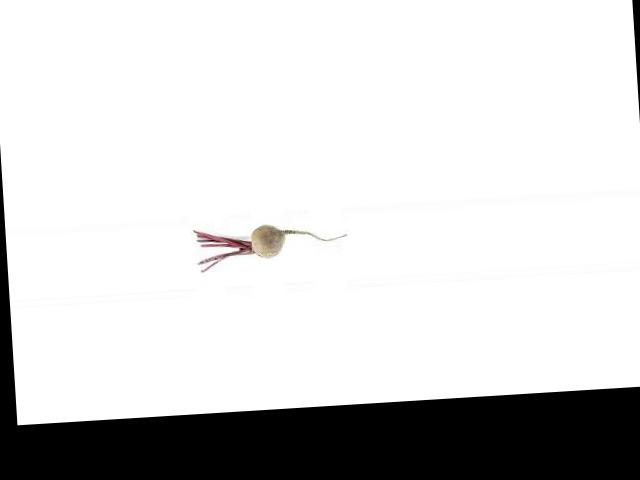beet: (194, 220, 350, 271)
